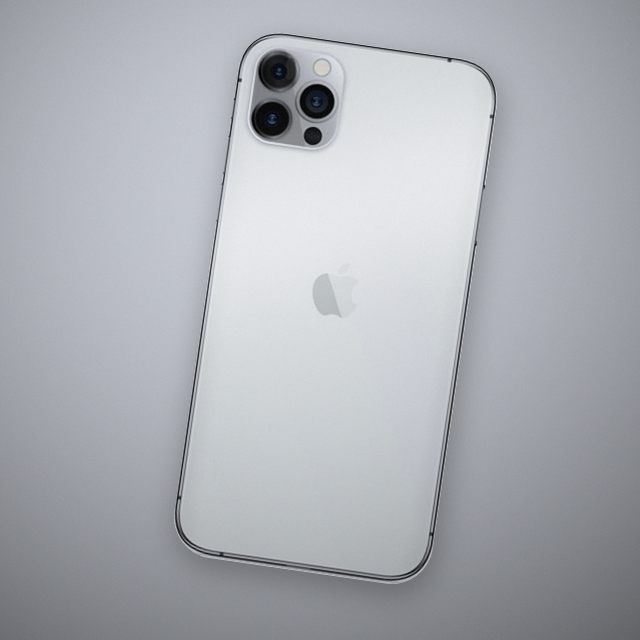iphone_12pro_silver: (134, 17, 515, 631), (236, 29, 351, 158)
